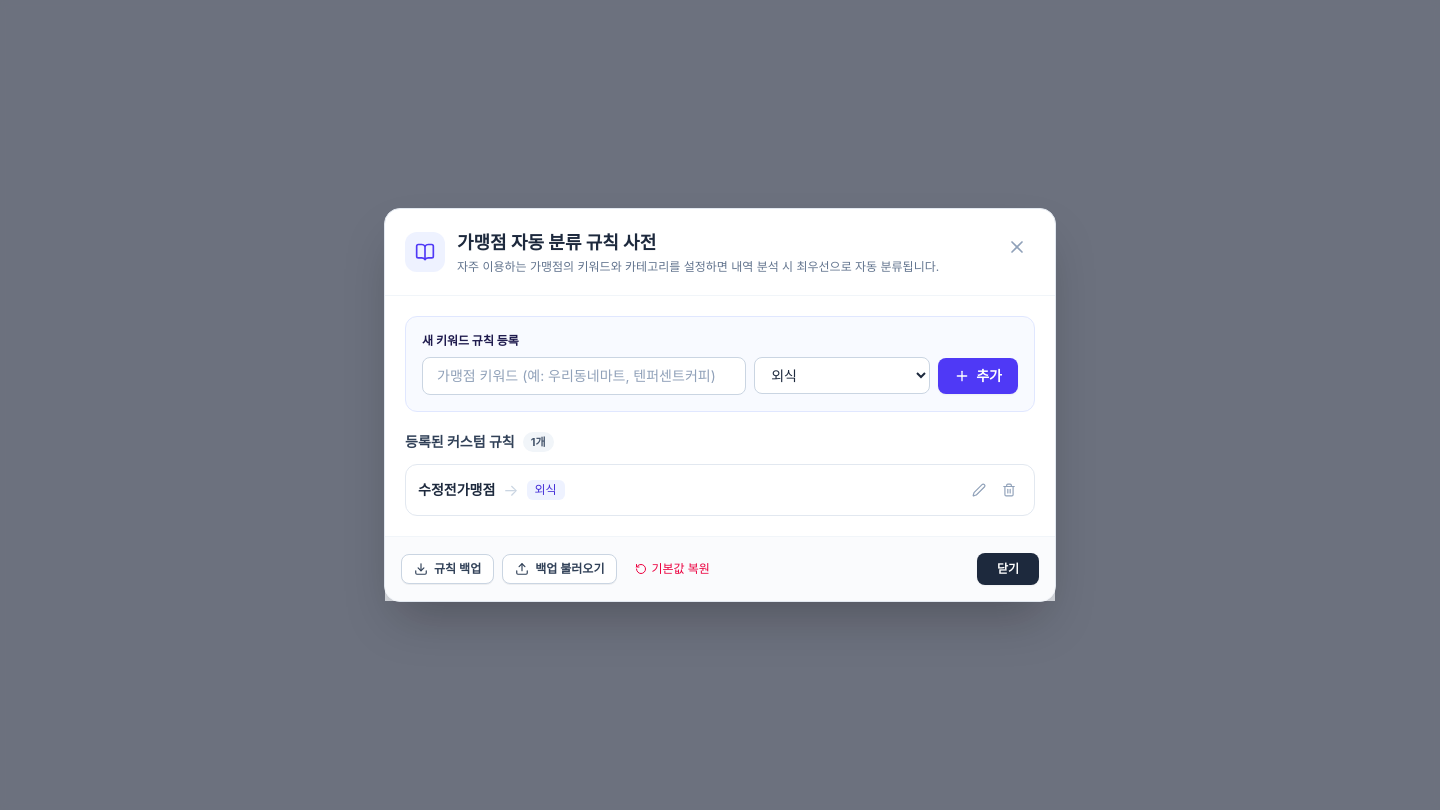
it: MerchantRulesModal 컴포넌트 단위 및 인터랙션 테스트 › 등록된 규칙의 수정 버튼을 눌러 인라인 수정 후 저장이 가능해야 한다
The width and height of the screenshot is (1440, 810).
Expected: the text "수정전가맹점" is shown, [418, 480, 495, 500]
Click the button named "수정전가맹점 규칙 수정". click: (979, 490)
box: [966, 477, 992, 503]
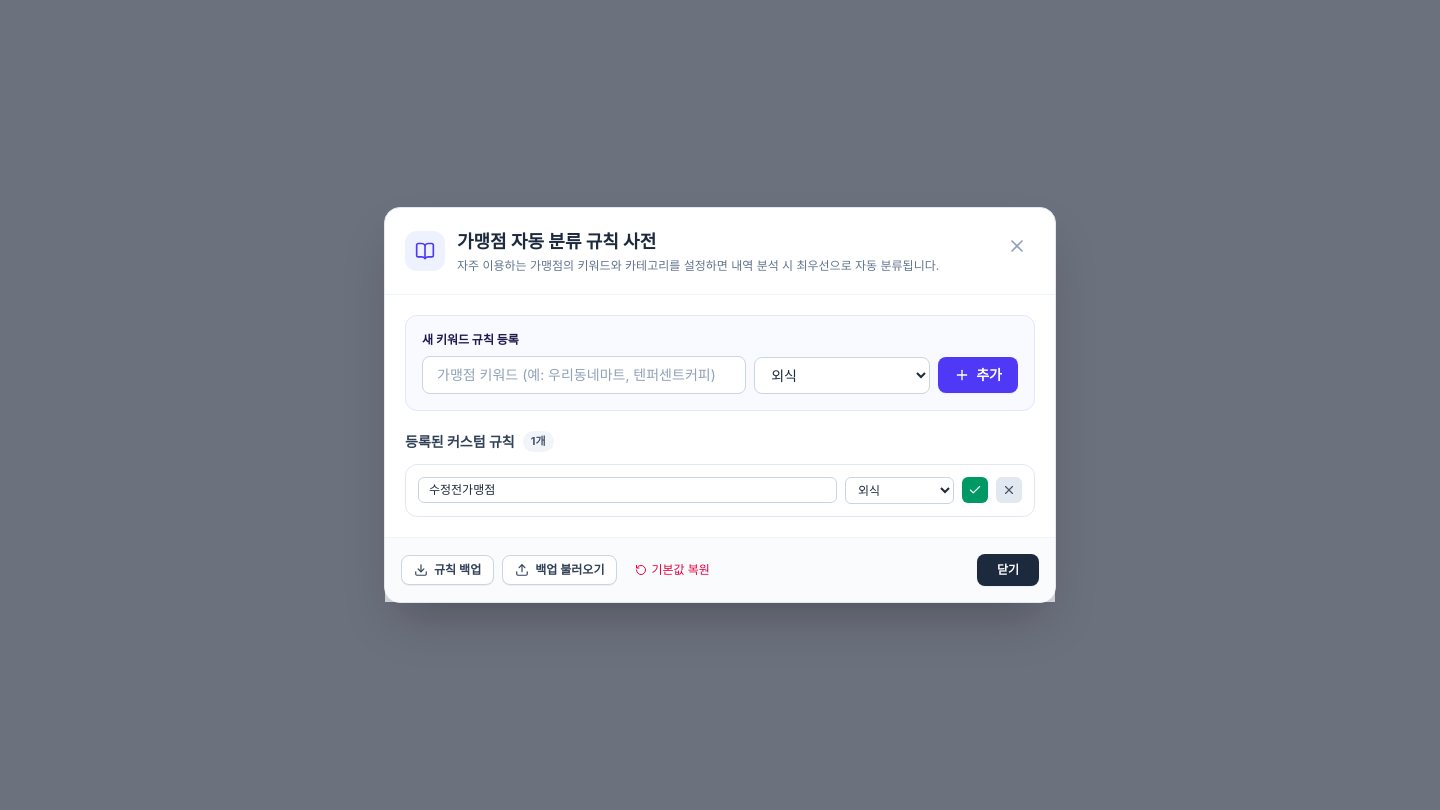
첫 번째는 신규등록 input, 두 번째가 인라인 수정 input
Replace the text in the field named "수정할 가맹점 키워드" with "수정후가맹점". click: (628, 490)
box: [418, 477, 837, 503]
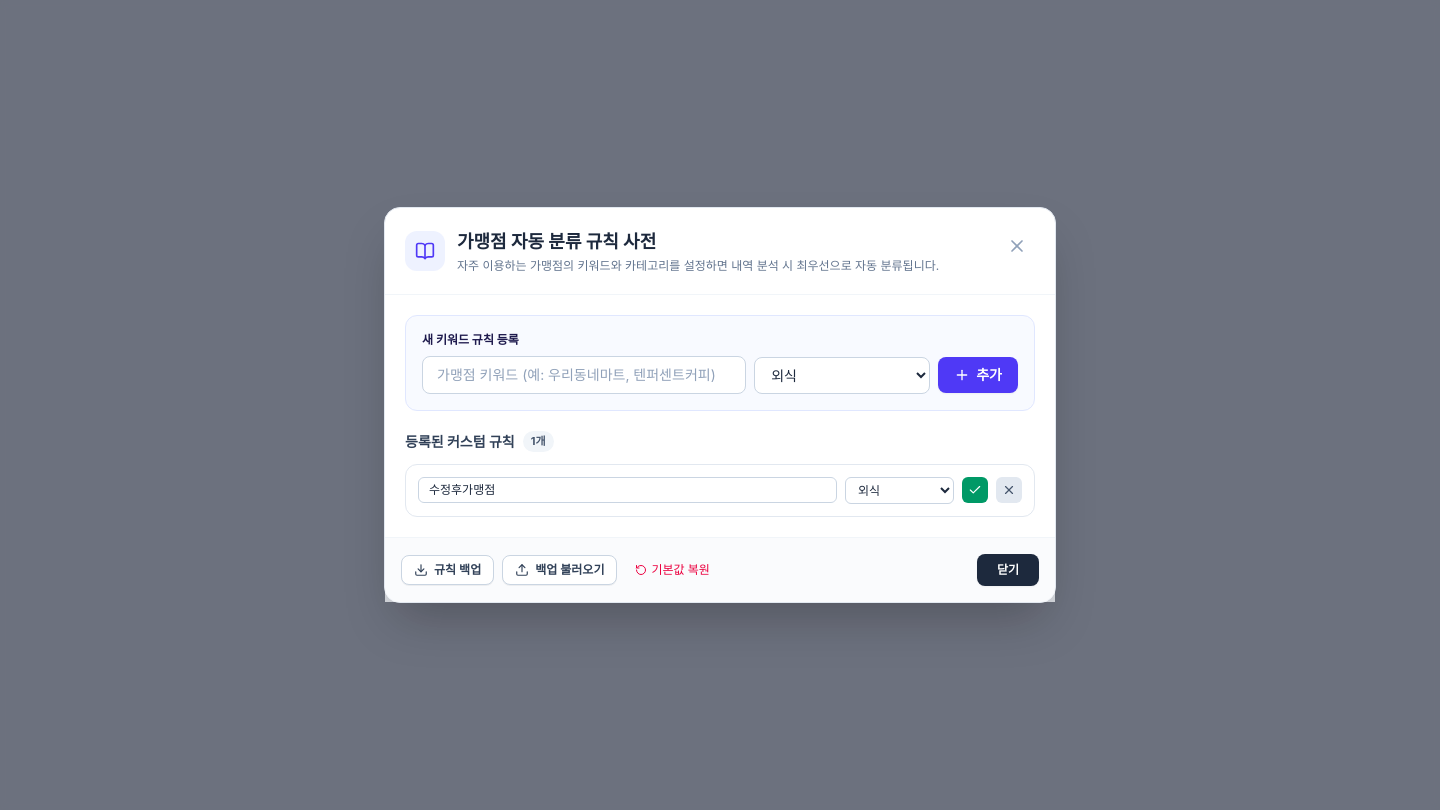
Click the button named "수정 완료". click: (975, 490)
box: [962, 477, 988, 503]
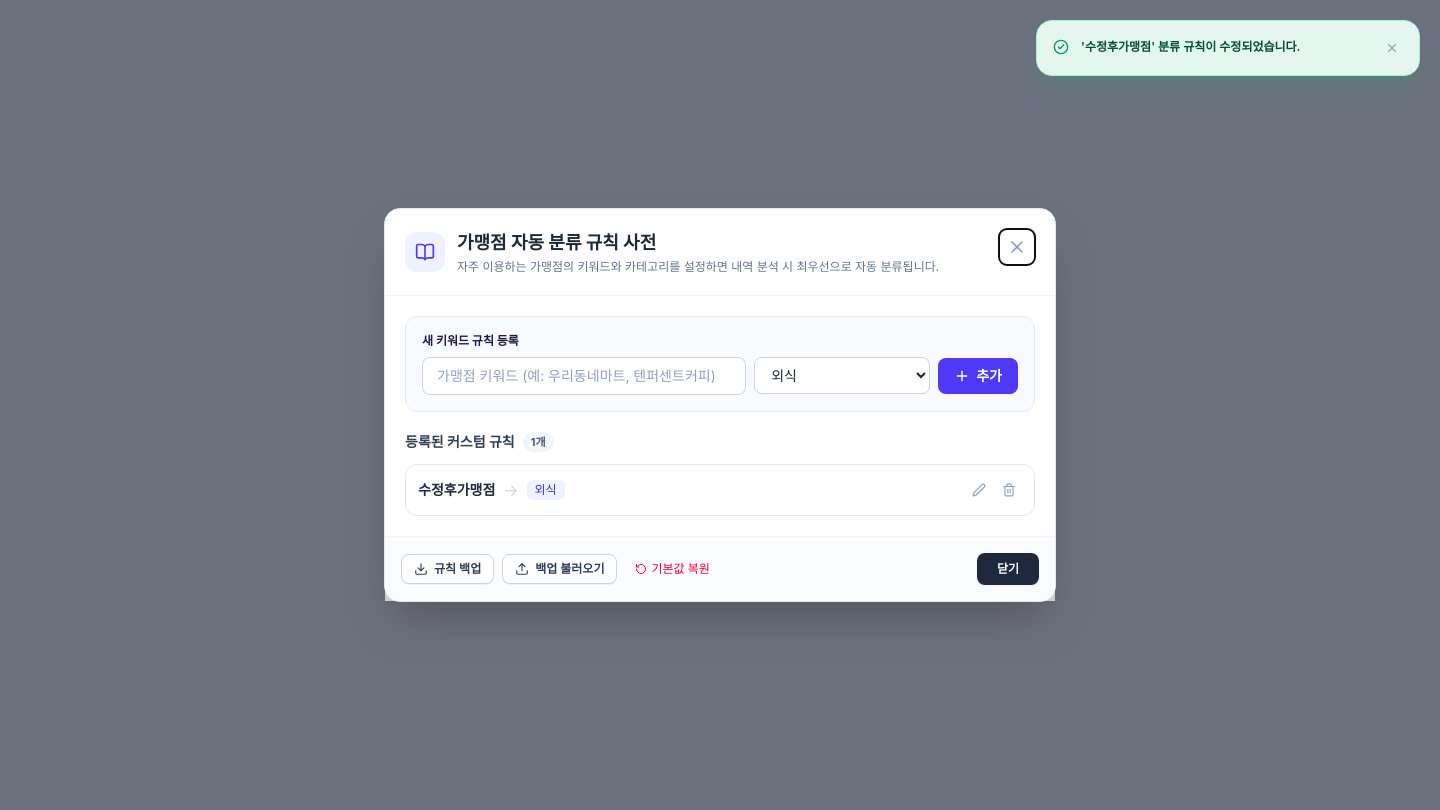
Expected: the text "수정후가맹점" is shown, [418, 480, 495, 500]
